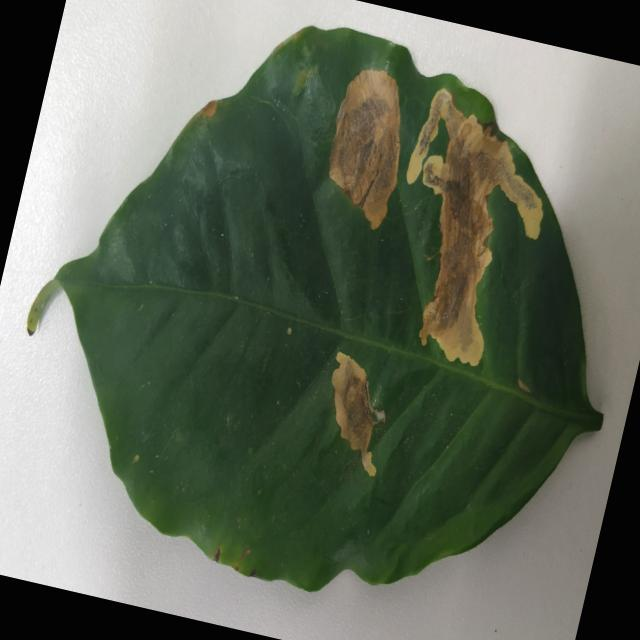KaratDaunKopi: (406, 89, 542, 365), (329, 70, 400, 229), (331, 352, 385, 476)
